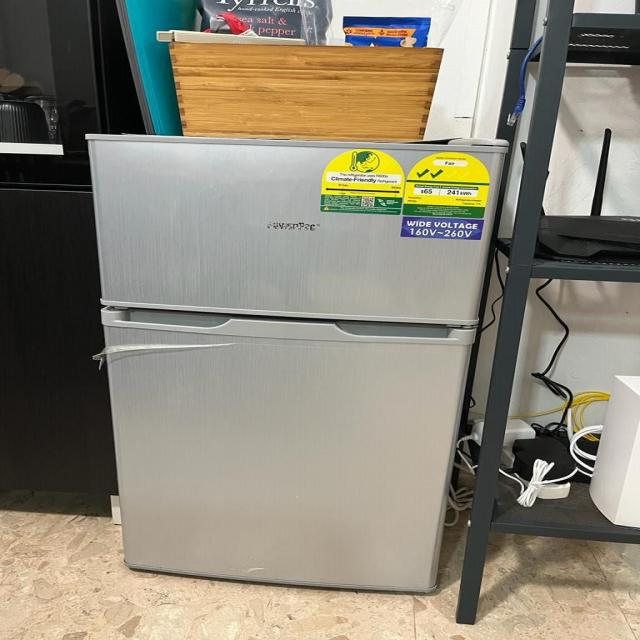refrigerator: (85, 131, 511, 594)
